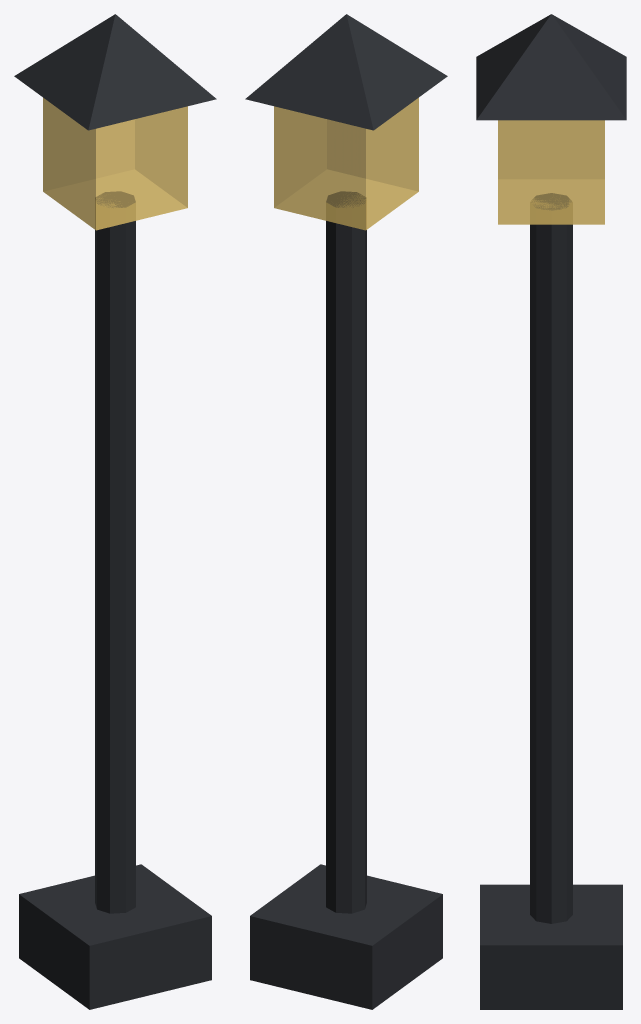
The model's file is lamp.obj.
3 views of the same model, side by side, from view 1: azimuth 30°, elevation 25°; view 2: azimuth 150°, elevation 25°; view 3: azimuth 270°, elevation 25° (orthographic).
Visible parts, largest first — view 1: Pole, Lantern, Base; view 2: Pole, Lantern, Base; view 3: Pole, Lantern, Base.
Boxes of the visible parts, x1,y1,x2,y2 form: Pole: (95,191,135,913); Lantern: (14,14,216,230); Base: (19,864,211,1009); Pole: (326,191,366,913); Lantern: (245,14,447,230); Base: (250,864,442,1009); Pole: (530,193,572,923); Lantern: (476,14,626,224); Base: (480,884,622,1009).
Bounding box in the file's own units: 0.42 × 2.98 × 0.42.
